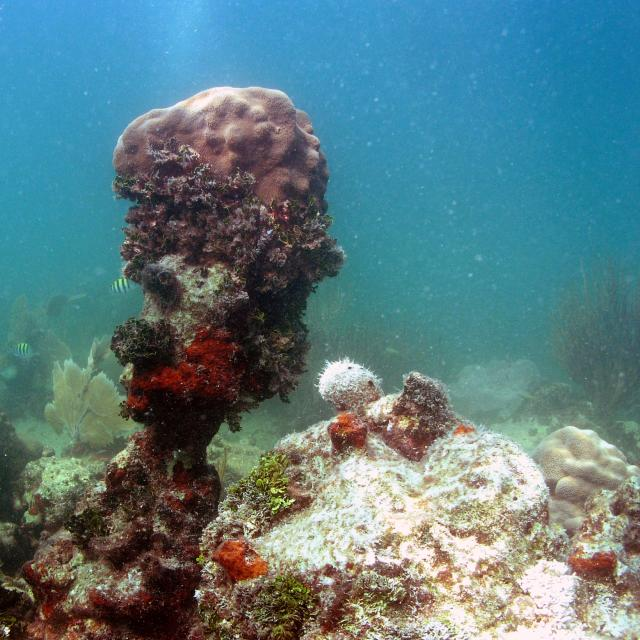Coral: (113, 86, 330, 213)
